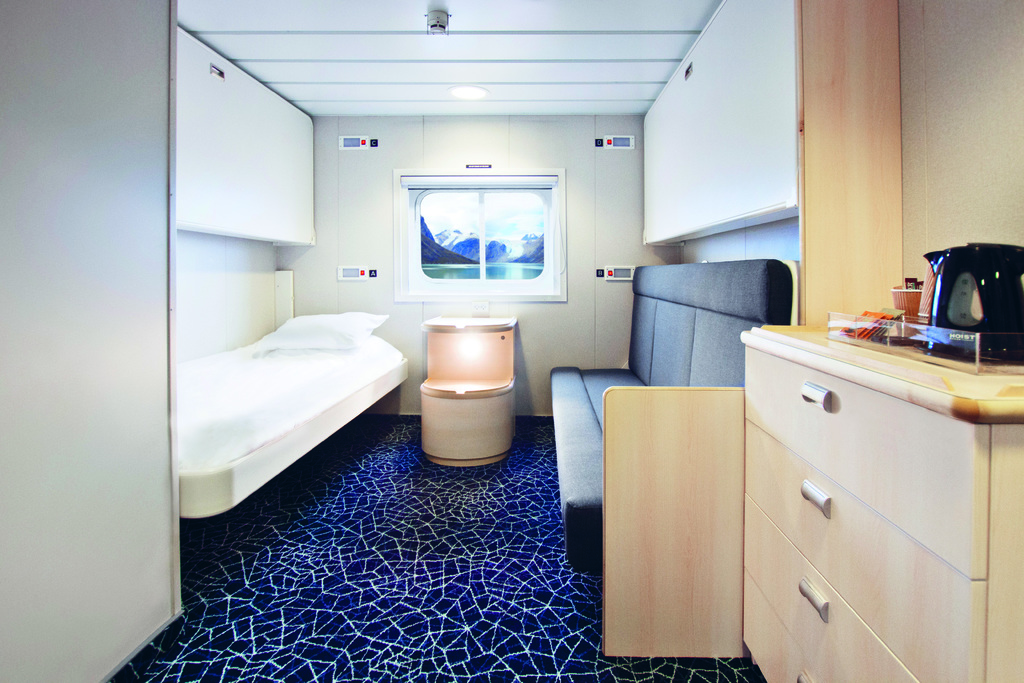cabinet door: (764, 496, 974, 612), (760, 380, 987, 479), (758, 577, 918, 675)
handle: (791, 477, 840, 523), (795, 580, 827, 623), (794, 386, 836, 414)
